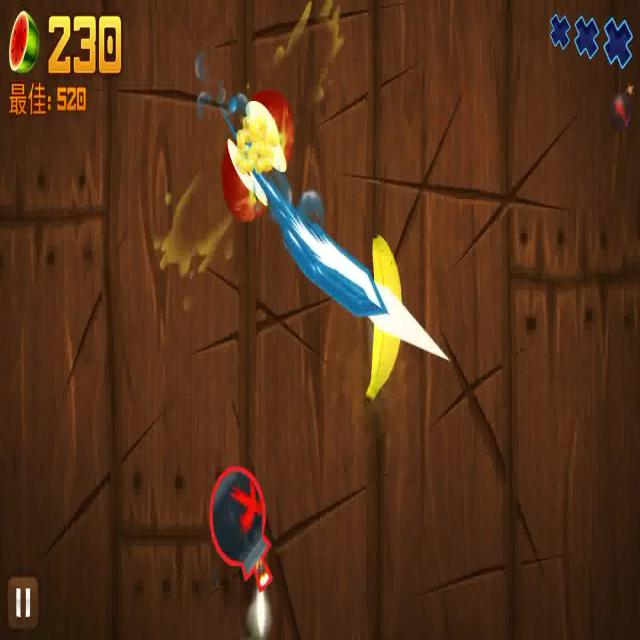bomb: (206, 463, 285, 639)
fruit: (369, 224, 400, 407), (218, 140, 276, 227), (240, 89, 296, 170)
